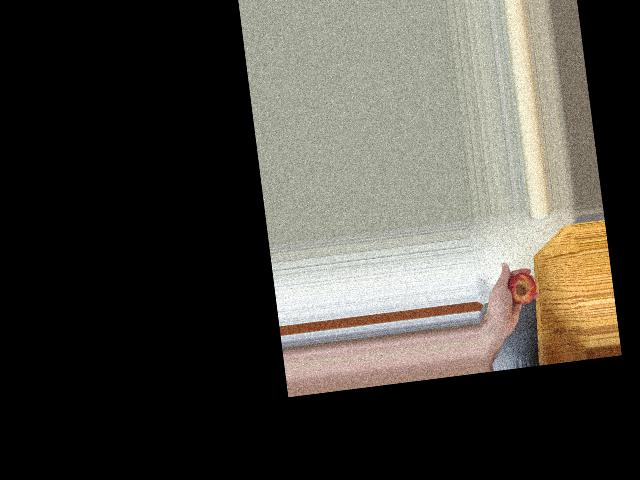apple: (503, 270, 539, 311)
